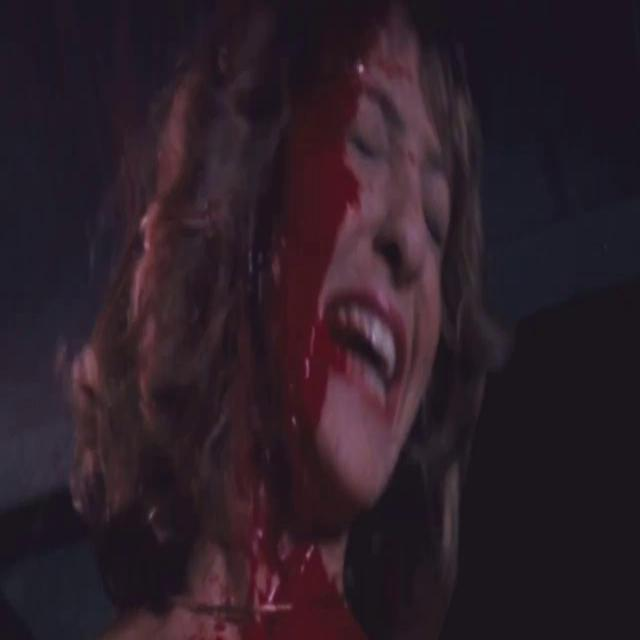flood: (253, 82, 326, 470)
